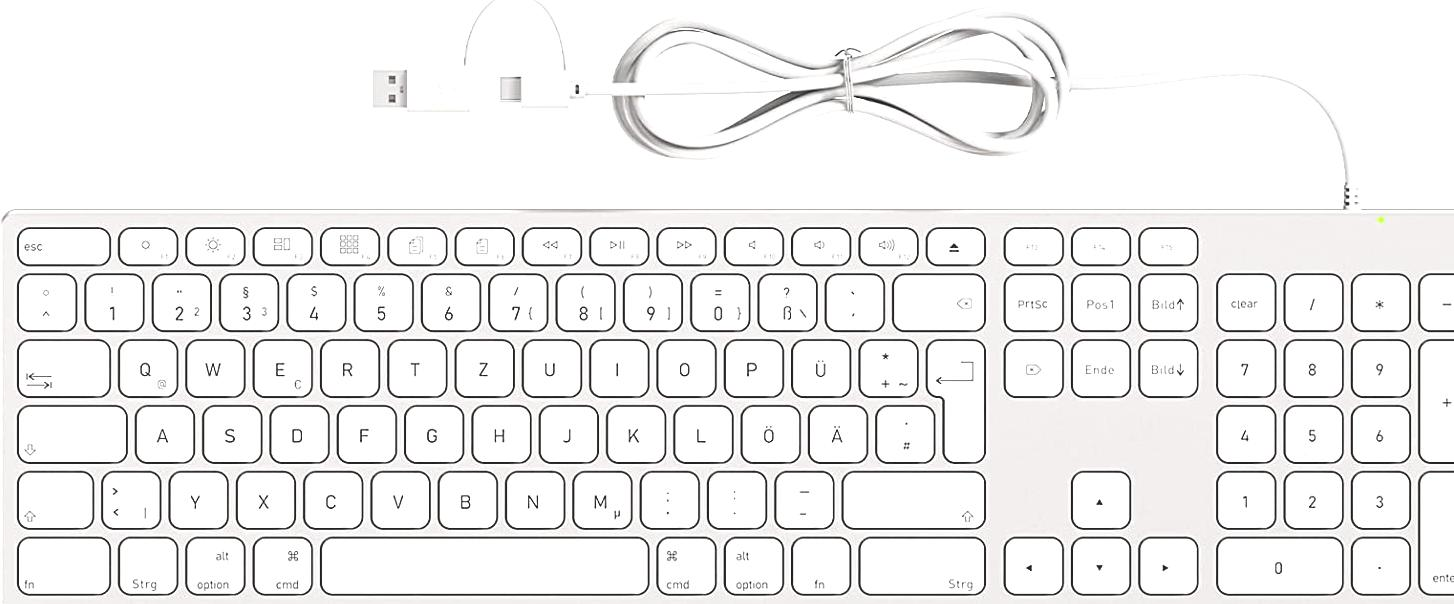0: (689, 271, 750, 329)
1: (84, 271, 144, 329)
2: (150, 274, 211, 329)
3: (218, 271, 278, 329)
4: (286, 272, 345, 328)
5: (352, 271, 413, 329)
6: (420, 271, 480, 329)
7: (487, 272, 548, 328)
8: (554, 271, 615, 329)
9: (621, 270, 683, 329)
a: (134, 402, 193, 461)
accent: (824, 271, 883, 329)
ae: (807, 402, 867, 461)
alt-left: (184, 533, 246, 595)
altgr-right: (721, 533, 783, 595)
b: (436, 468, 497, 527)
c: (302, 468, 363, 527)
caret: (16, 273, 75, 329)
comma: (638, 468, 698, 527)
d: (269, 402, 328, 462)
del: (891, 271, 985, 329)
e: (252, 336, 312, 396)
enter: (924, 337, 984, 461)
f: (336, 402, 396, 462)
g: (403, 402, 463, 461)
h: (471, 402, 531, 462)
hash: (874, 402, 934, 461)
i: (588, 335, 648, 395)
j: (538, 402, 597, 461)
k: (605, 401, 666, 462)
keyboard: (1, 206, 1454, 604)
l: (672, 401, 731, 461)
less: (99, 468, 160, 528)
m: (570, 467, 632, 528)
minus: (773, 469, 833, 526)
n: (503, 468, 566, 527)
o: (655, 336, 716, 396)
oe: (739, 402, 800, 461)
p: (723, 336, 783, 395)
plus: (858, 336, 917, 395)
point: (706, 469, 766, 527)
q: (116, 336, 178, 395)
r: (320, 336, 379, 395)
s: (201, 402, 261, 462)
shift-left: (18, 469, 92, 528)
shift-lock: (15, 400, 127, 462)
shift-right: (840, 469, 983, 529)
space: (318, 536, 648, 595)
ss: (757, 272, 817, 329)
strg-left: (116, 534, 178, 595)
strg-right: (856, 533, 989, 594)
t: (387, 336, 446, 395)
tab: (15, 336, 108, 395)
u: (521, 336, 581, 395)
ue: (790, 337, 850, 395)
v: (369, 468, 430, 528)
w: (184, 335, 245, 395)
x: (235, 468, 295, 527)
y: (167, 468, 228, 528)
z: (454, 336, 514, 395)
